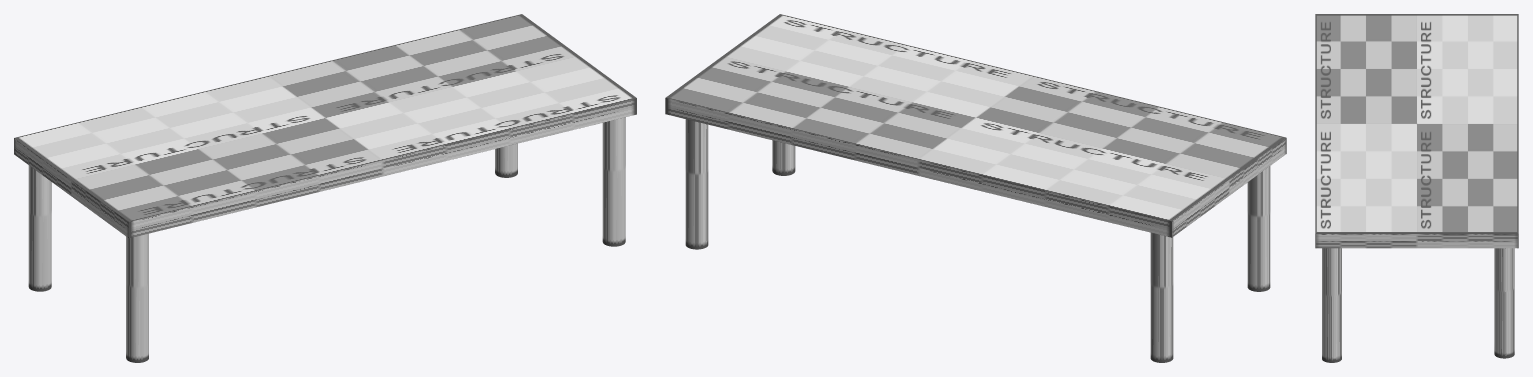
The model's file is table.fbx.
3 views of the same model, side by side, from view 1: azimuth 30°, elevation 25°; view 2: azimuth 150°, elevation 25°; view 3: azimuth 270°, elevation 25° (orthographic). The views are drawn at different scales.
Visible parts, largest first — view 1: table, Cylinder, Cylinder__1_, Cylinder__2_, Cylinder__3_; view 2: table, Cylinder__3_, Cylinder__2_, Cylinder__1_, Cylinder; view 3: table, Cylinder__3_, Cylinder.
Boxes of the visible parts, bbox=[...] form: table: bbox=[14, 14, 636, 238]; Cylinder: bbox=[602, 117, 625, 246]; Cylinder__1_: bbox=[126, 233, 148, 362]; Cylinder__2_: bbox=[28, 165, 51, 291]; Cylinder__3_: bbox=[495, 143, 517, 177]; table: bbox=[665, 14, 1286, 237]; Cylinder__3_: bbox=[685, 119, 708, 249]; Cylinder__2_: bbox=[1150, 232, 1173, 362]; Cylinder__1_: bbox=[1247, 166, 1270, 291]; Cylinder: bbox=[772, 140, 795, 175]; table: bbox=[1315, 14, 1518, 248]; Cylinder__3_: bbox=[1494, 248, 1514, 358]; Cylinder: bbox=[1322, 248, 1341, 362].
Size of the model in its own units: 292 by 80.89 by 114.
